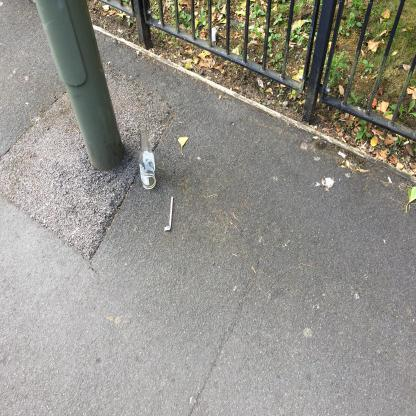cam: (139, 124, 158, 191)
plastik: (165, 197, 175, 233)
